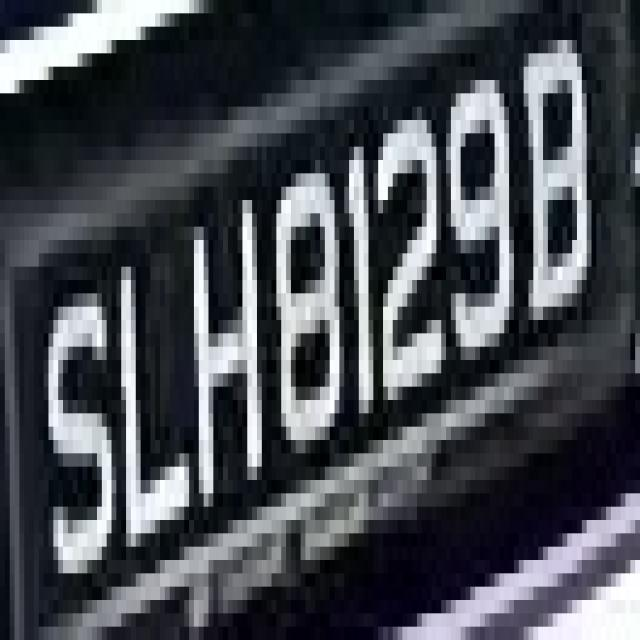1: (339, 107, 383, 493)
2: (373, 53, 451, 427)
8: (262, 133, 349, 467)
9: (431, 53, 519, 400)
B: (519, 0, 601, 360)
H: (179, 160, 267, 533)
L: (106, 227, 208, 600)
S: (29, 253, 116, 600)
